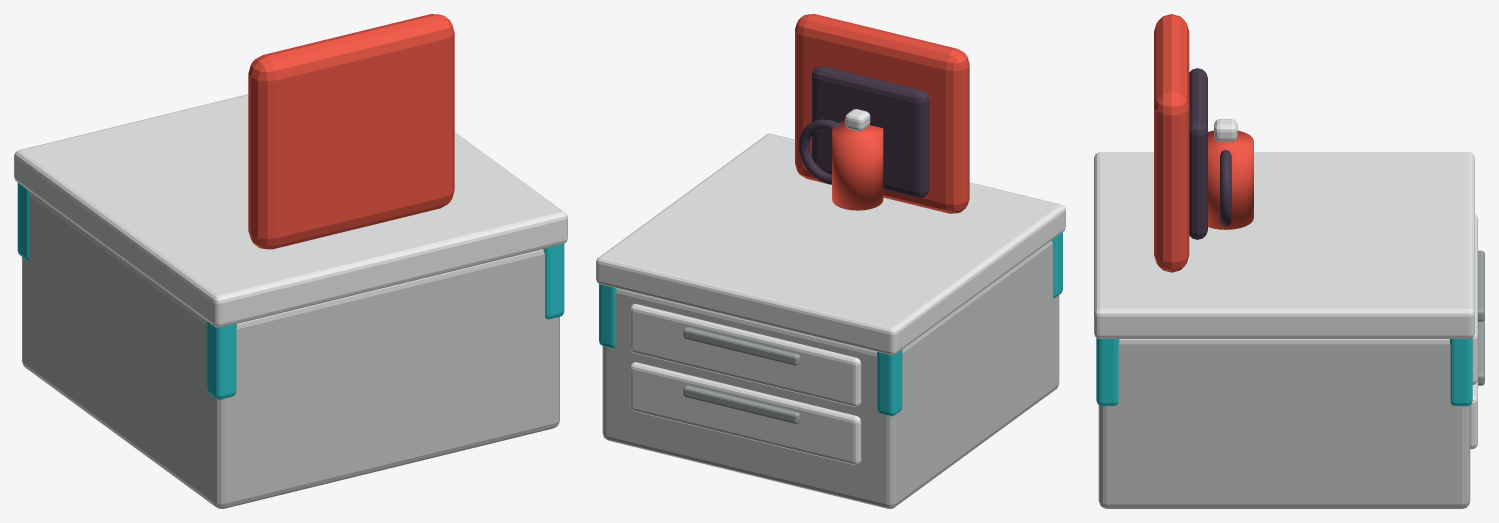
The model's file is ExtinguisherCabinet.fbx.
The picture shows the model from 3 angles, left to right: view 1: azimuth 30°, elevation 25°; view 2: azimuth 150°, elevation 25°; view 3: azimuth 270°, elevation 25°; orthographic projection. The views are drawn at different scales.
Visible parts, largest first — view 1: MAT_Steel Geometry.009, MAT_SteelLight Geometry.008, MAT_Red Geometry, MAT_Teal Geometry.007; view 2: MAT_SteelLight Geometry.008, MAT_Steel Geometry.009, MAT_Red Geometry, MAT_DeepInset Geometry.003, MAT_Teal Geometry.007, MAT_SteelDark Geometry.008; view 3: MAT_SteelLight Geometry.008, MAT_Steel Geometry.009, MAT_Red Geometry, MAT_DeepInset Geometry.003, MAT_Teal Geometry.007, MAT_SteelDark Geometry.008.
Part boxes in pixels (<box>): MAT_Steel Geometry.009: <box>22,192,559,508</box>; MAT_SteelLight Geometry.008: <box>14,94,567,327</box>; MAT_Red Geometry: <box>248,14,454,249</box>; MAT_Teal Geometry.007: <box>17,183,564,399</box>; MAT_SteelLight Geometry.008: <box>596,109,1065,465</box>; MAT_Steel Geometry.009: <box>602,240,1059,508</box>; MAT_Red Geometry: <box>795,14,969,213</box>; MAT_DeepInset Geometry.003: <box>799,66,929,197</box>; MAT_Teal Geometry.007: <box>599,232,1062,416</box>; MAT_SteelDark Geometry.008: <box>683,327,800,423</box>; MAT_SteelLight Geometry.008: <box>1094,119,1477,449</box>; MAT_Steel Geometry.009: <box>1098,339,1470,508</box>; MAT_Red Geometry: <box>1154,14,1253,272</box>; MAT_DeepInset Geometry.003: <box>1189,68,1231,239</box>; MAT_Teal Geometry.007: <box>1096,338,1472,406</box>; MAT_SteelDark Geometry.008: <box>1478,250,1484,385</box>.
Size of the model in its own units: 162 by 178 by 166.
